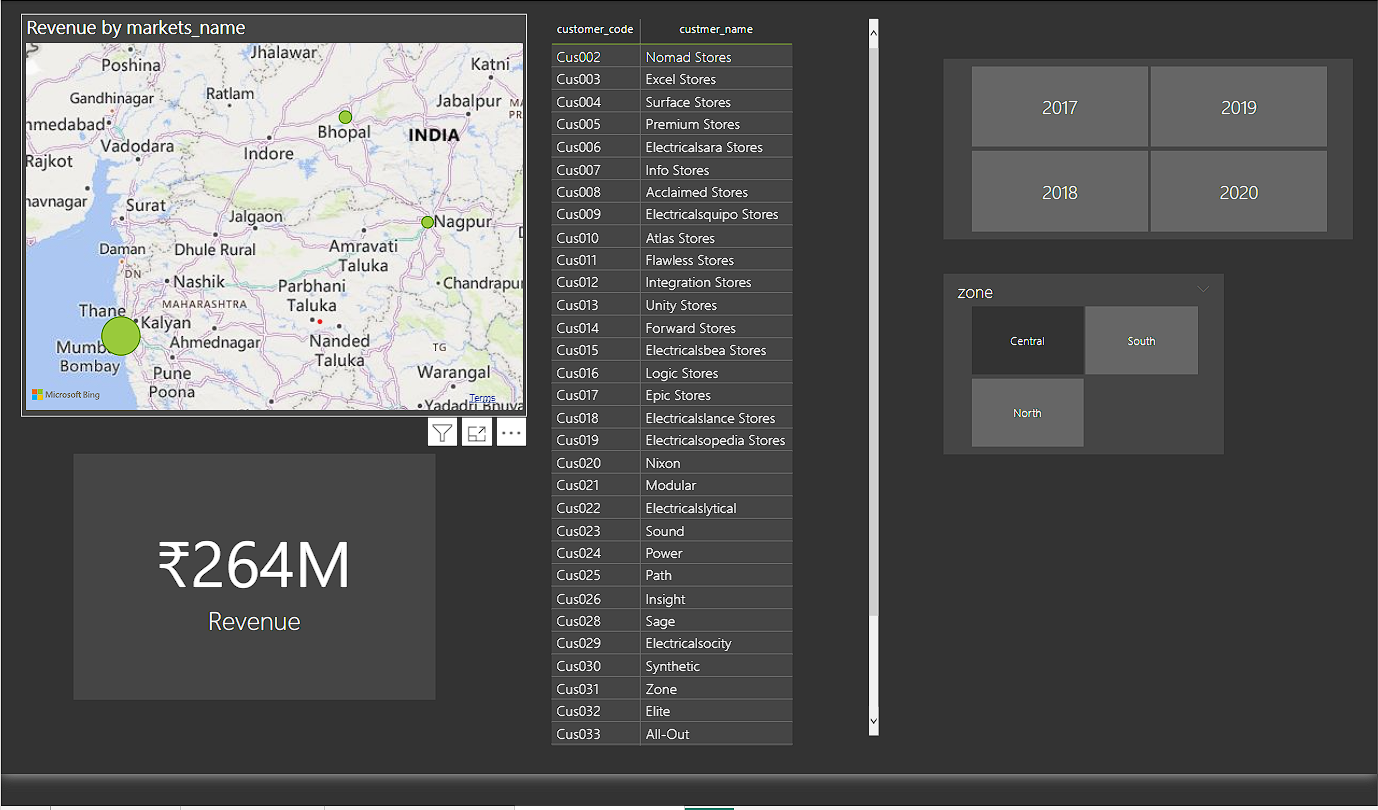

The dashboard page shown, as its layout file describes it:
{"tool":"powerbi","page":{"name":"Map visualization","canvas":[1280,720],"ordinal":3},"visuals":[{"type":"map","fields":{"Category":["sales markets.markets_name"],"Size":["BaseMeasures (2).Revenue"]},"box":[18.1,13.3,471.6,373.9],"z":0},{"type":"slicer","fields":{"Values":["sales date.year"]},"box":[876.8,54.3,381.1,167.6],"z":1000},{"type":"slicer","fields":{"Values":["sales markets.zone"]},"box":[876.8,254.5,260.5,167.6],"z":2000},{"type":"tableEx","fields":{"Values":["Sales transactions.customer_code","sales customers.custmer_name"]},"box":[505.8,13.1,315.4,685.5],"z":3000},{"type":"card","fields":{"Values":["BaseMeasures (2).Revenue"]},"box":[67.5,422.1,336.5,229.1],"z":4000}]}

Visuals, with their boxes on the page's 1280x720 design canvas (x1, y1, x2, y2). These are canvas units, not pixel positions in the 1378x810 screenshot, which may show the page scaled, cropped or inside an application window:
map - sales markets.markets_name x BaseMeasures (2).Revenue: crop(18, 13, 490, 387)
slicer - sales date.year: crop(877, 54, 1258, 222)
slicer - sales markets.zone: crop(877, 254, 1137, 422)
tableEx - Sales transactions.customer_code x sales customers.custmer_name: crop(506, 13, 821, 699)
card - BaseMeasures (2).Revenue: crop(68, 422, 404, 651)
